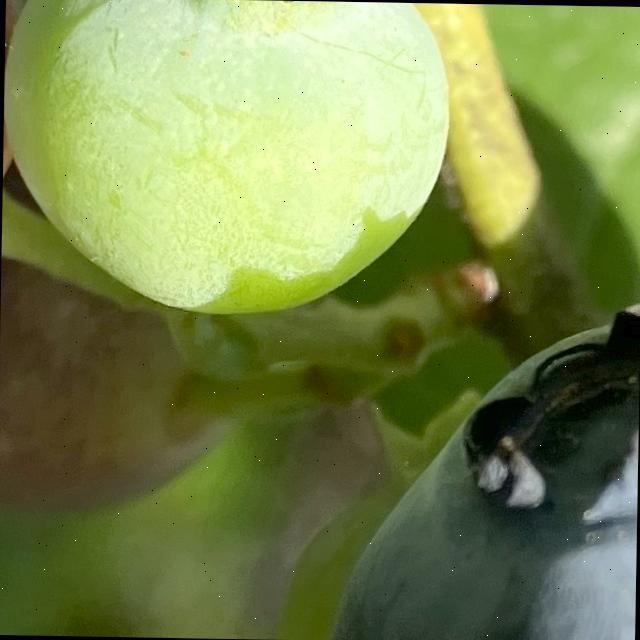Blueberries: (0, 0, 459, 322)
